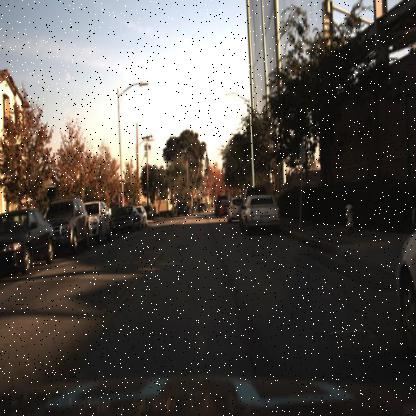car: (0, 208, 55, 281), (47, 195, 89, 263), (239, 192, 288, 238), (85, 194, 115, 248), (111, 202, 140, 238), (110, 206, 141, 236), (224, 191, 242, 227), (134, 198, 150, 234), (174, 198, 188, 219)
